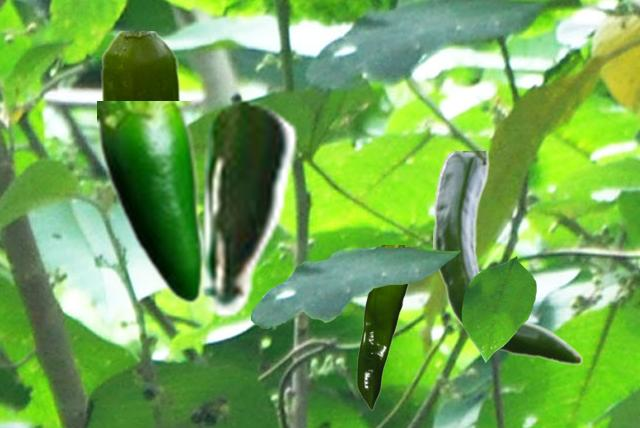green_chili: (433, 151, 582, 363), (193, 98, 298, 318), (97, 101, 203, 304), (356, 245, 408, 409), (100, 31, 180, 100)
